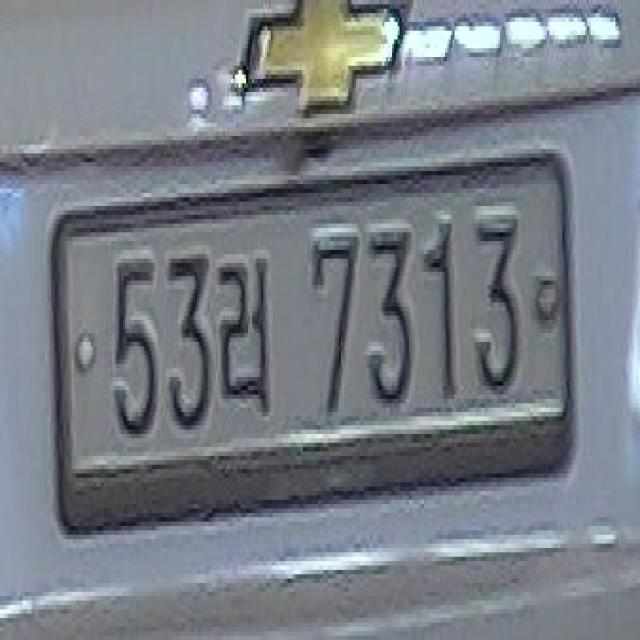1: (418, 208, 462, 412)
3: (472, 192, 526, 400), (164, 240, 216, 454), (365, 226, 413, 424)
5: (107, 262, 160, 450)
7: (311, 226, 361, 408)
leo: (216, 252, 277, 430)
license_plate: (46, 121, 592, 545)
